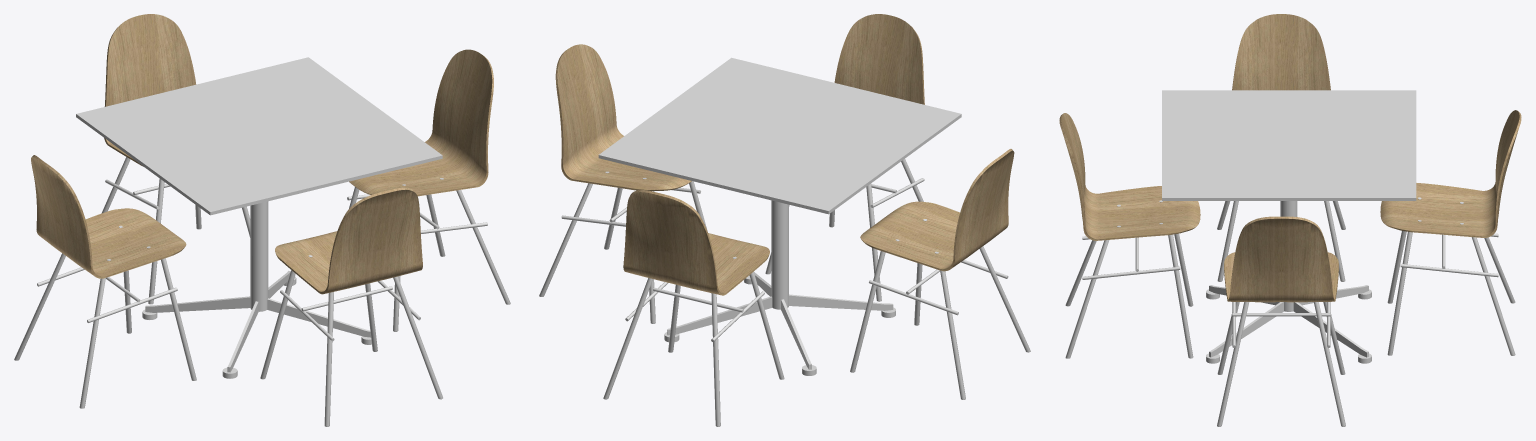
File: table1.dae
The picture shows the model from 3 angles, left to right: view 1: azimuth 30°, elevation 25°; view 2: azimuth 150°, elevation 25°; view 3: azimuth 270°, elevation 25°; orthographic projection. The views are drawn at different scales.
Visible parts, largest first — view 1: Seat (×4), Table_Top, Rear_Leg (×5), Leg (×3), Table_Basement, Front_Leg (×3); view 2: Seat (×4), Table_Top, Rear_Leg (×5), Leg (×3), Table_Basement, Front_Leg (×2); view 3: Table_Top, Seat (×4), Rear_Leg (×4), Front_Leg (×4), Leg (×2).
Boxes of the visible parts, x1,y1,x2,y2 form: Seat (×4): (31, 14, 493, 294); Table_Top: (76, 57, 442, 215); Rear_Leg (×5): (14, 190, 510, 426); Leg (×3): (145, 296, 370, 372); Table_Basement: (250, 201, 268, 311); Front_Leg (×3): (148, 179, 295, 380); Seat (×4): (555, 14, 1014, 295); Table_Top: (598, 57, 961, 214); Rear_Leg (×5): (539, 183, 1030, 426); Leg (×3): (667, 294, 893, 369); Table_Basement: (771, 200, 788, 309); Front_Leg (×2): (749, 251, 885, 379); Table_Top: (1162, 90, 1416, 200); Seat (×4): (1059, 14, 1521, 302); Rear_Leg (×4): (1065, 237, 1515, 426); Front_Leg (×4): (1168, 201, 1412, 358); Leg (×2): (1209, 302, 1368, 357).
Bounding box in the file's own units: 67.29 × 64.36 × 32.73.
Materials: 2 (1 with a texture image).
